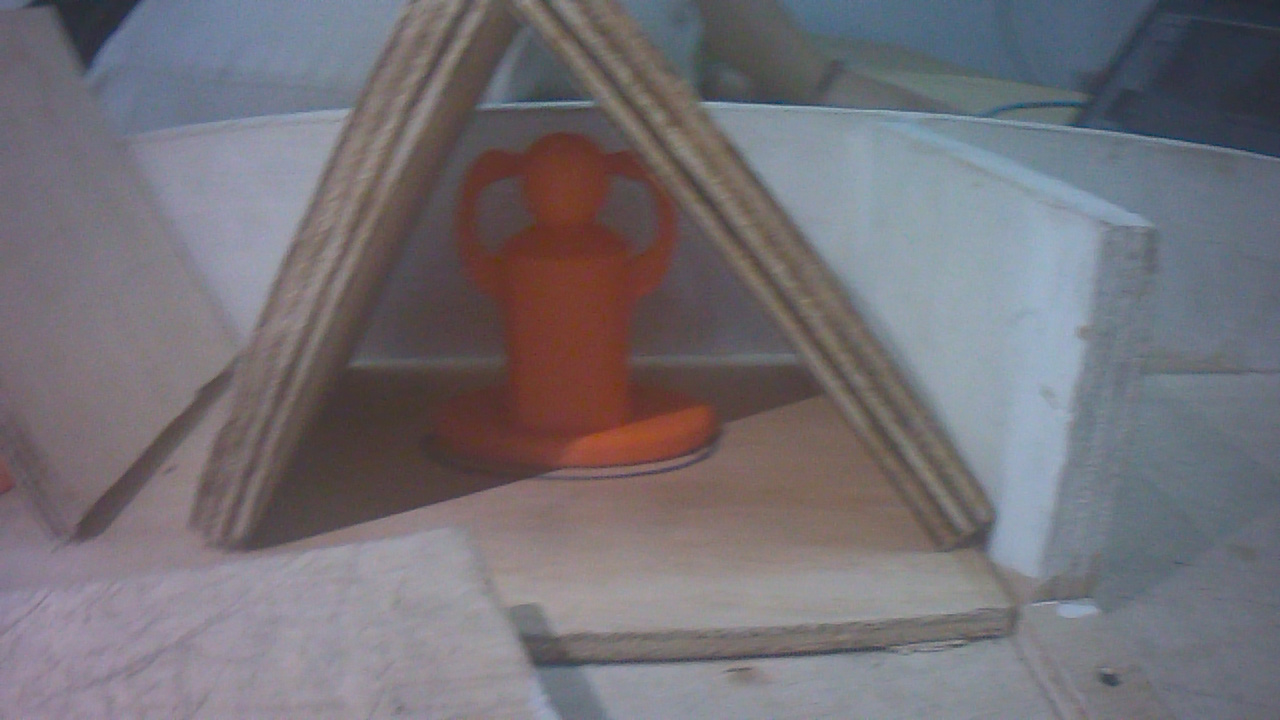real: (439, 107, 701, 476)
